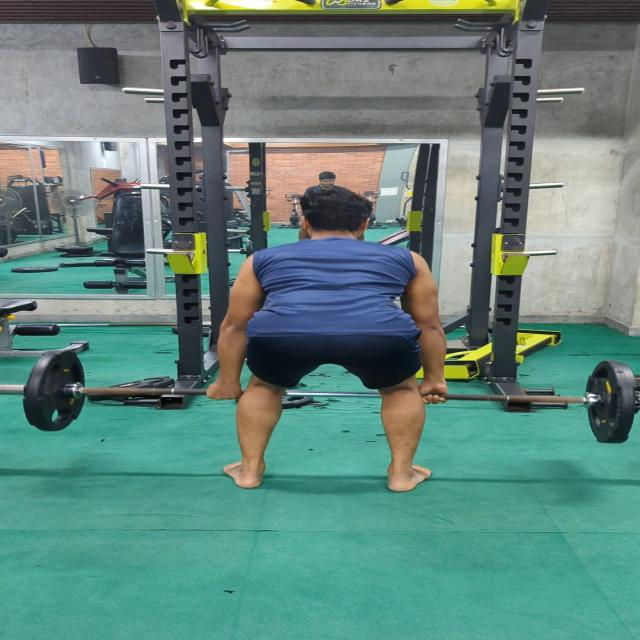Normal_Deadlifts: (199, 188, 452, 493)
